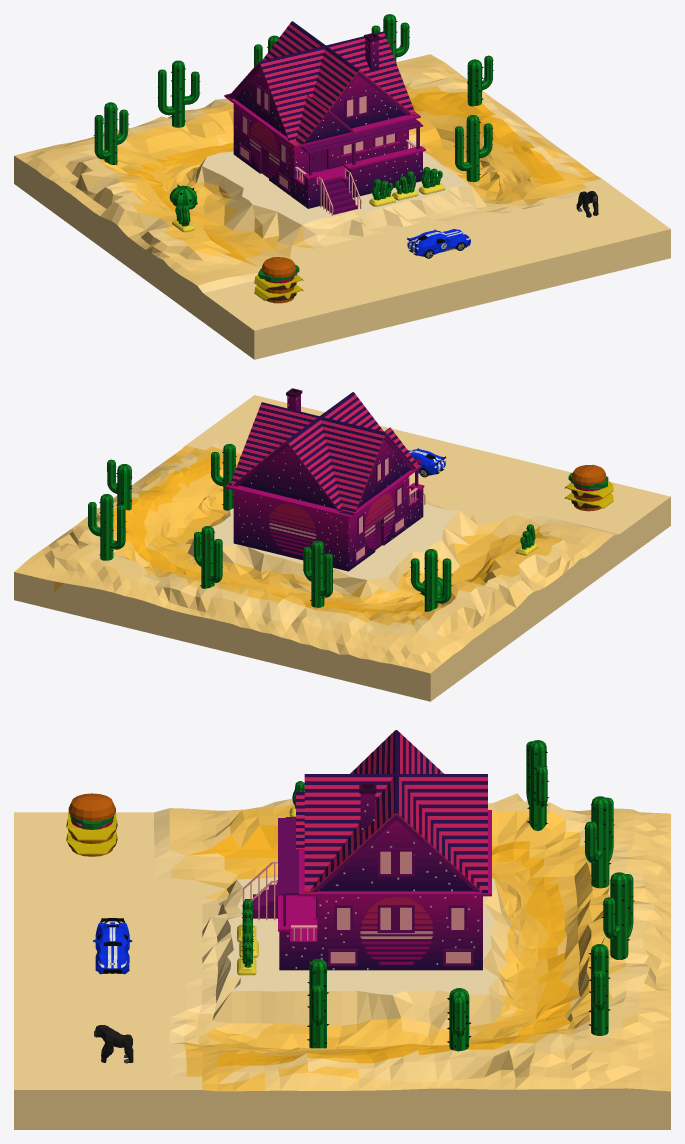
3 renders of one model, top to bottom at view 1: azimuth 30°, elevation 25°; view 2: azimuth 150°, elevation 25°; view 3: azimuth 270°, elevation 25°, orthographic. The views are drawn at different scales.
Parts seen in each view (by area): view 1: Cube.001, Cube.156, OBJRANDOM_HAMBURGER, Cylinder.037, Cylinder.044, Cylinder.045, VEHICLES_RACING_CAR, Cylinder.038, Cylinder.042, Cylinder.039, Cylinder.041, Sphere.023 (+1 smaller); view 2: Cube.001, Cube.156, OBJRANDOM_HAMBURGER, Cylinder.042, Cylinder.045, Cylinder.044, Cylinder.043, Cylinder.037, Cylinder.038, VEHICLES_RACING_CAR; view 3: Cube.001, Cube.156, OBJRANDOM_HAMBURGER, Cylinder.043, Cylinder.044, VEHICLES_RACING_CAR, Cylinder.045, Cylinder.042, Cylinder.037, Cylinder.038, ANIMAL_GORILA, Cylinder.041.
Boxes of the visible parts, x1,y1,x2,y2 form: Cube.001: (14,54,670,359); Cube.156: (224,21,425,215); OBJRANDOM_HAMBURGER: (254,257,303,303); Cylinder.037: (454,115,493,182); Cylinder.044: (157,60,200,127); Cylinder.045: (93,102,129,164); VEHICLES_RACING_CAR: (407,229,470,258); Cylinder.038: (467,55,493,106); Cylinder.042: (371,14,409,62); Cylinder.039: (369,179,395,206); Cylinder.041: (418,167,445,194); Sphere.023: (169,184,197,209); Cube.001: (14,395,670,701); Cube.156: (225,388,425,571); OBJRANDOM_HAMBURGER: (564,464,613,511); Cylinder.042: (88,494,126,560); Cylinder.045: (410,549,452,611); Cylinder.044: (303,540,333,607); Cylinder.043: (193,526,222,588); Cylinder.037: (211,444,240,510); Cylinder.038: (107,459,131,510); VEHICLES_RACING_CAR: (408,448,445,477); Cube.001: (14,793,670,1129); Cube.156: (242,730,491,970); OBJRANDOM_HAMBURGER: (66,793,117,856); Cylinder.043: (602,872,634,959); Cylinder.044: (584,796,614,888); VEHICLES_RACING_CAR: (93,918,132,974); Cylinder.045: (526,740,549,830); Cylinder.042: (588,944,610,1035); Cylinder.037: (307,959,329,1048); Cylinder.038: (447,988,471,1051); ANIMAL_GORILA: (94,1025,133,1063); Cylinder.041: (237,932,256,975).
Size of the model in its own units: 4002 by 1627 by 4001.
Materials: 33 (4 with a texture image).
